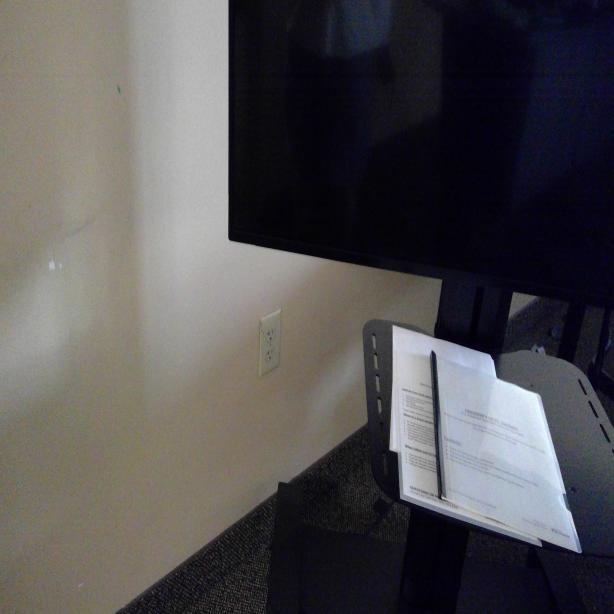typeb: (266, 346, 276, 365), (266, 325, 276, 343)
